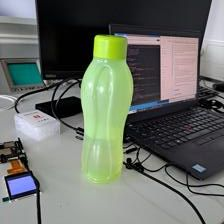bottle: (75, 32, 136, 185)
